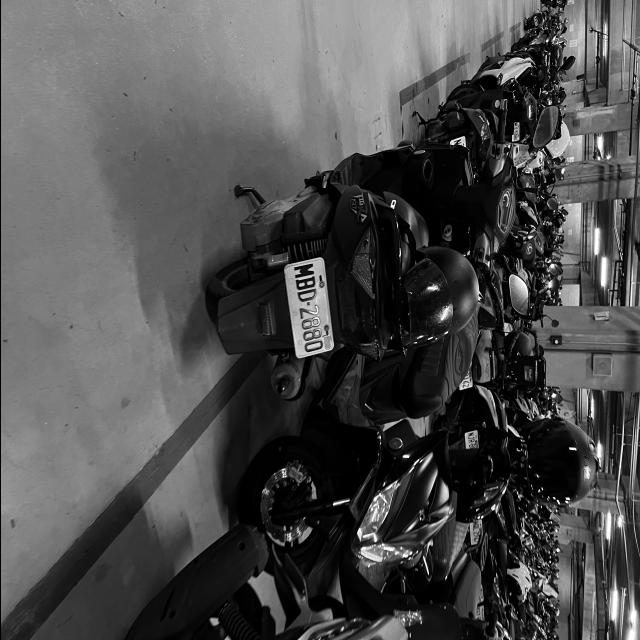-: (306, 302, 310, 306), (470, 443, 471, 444)
0: (302, 338, 323, 354)
2: (298, 304, 319, 319), (461, 384, 468, 389)
3: (513, 133, 517, 136)
6: (461, 380, 468, 385), (513, 138, 517, 141)
8: (301, 327, 322, 343), (299, 316, 321, 331), (468, 444, 474, 448), (513, 136, 516, 138)
B: (294, 275, 316, 291)
D: (295, 287, 317, 303)
J: (467, 436, 474, 440)
M: (292, 262, 314, 279)
N: (453, 139, 461, 145), (467, 432, 473, 437)
R: (467, 439, 474, 444)
plate: (283, 259, 332, 359)
